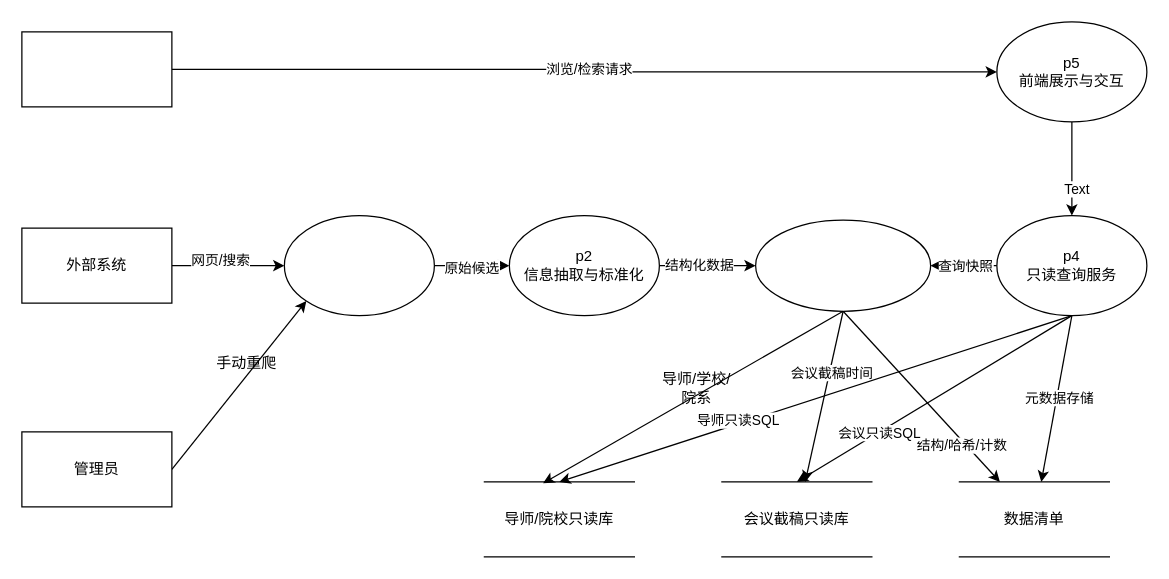
This 1169x579 diagram has some shape labels left out. The centre of each missing label's shape, as x and y in pixels:
"p1 采集与爬取" goes at (358,265).
"p3 快照入库与manifest生成" goes at (842,265).
"匿名访客" goes at (96,69).
